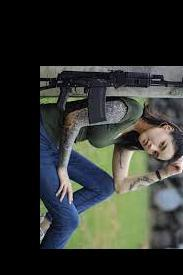larga: (41, 66, 183, 125)
